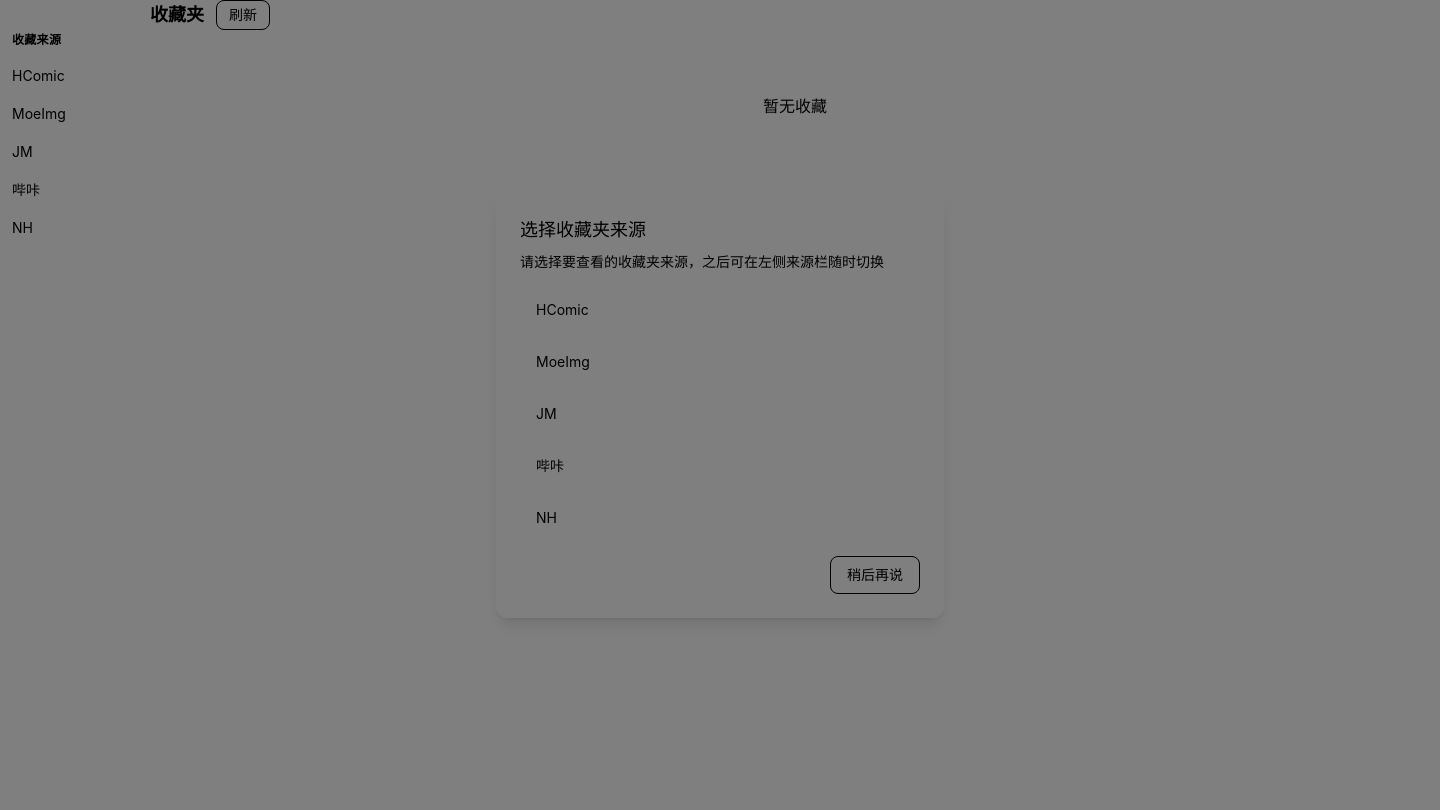
it: FavouritesPage 来源选择器三态分支 › ② 未设默认 + 本会话首次：弹出选择器 › 跳过选择器（稍后再说）后显示空状态与重开按钮，并标记已弹
Expected: the heading "选择收藏夹来源" is shown, left=520, top=219, right=646, bottom=240
Click the button "稍后再说" at [875, 575], box left=830, top=556, right=920, bottom=594
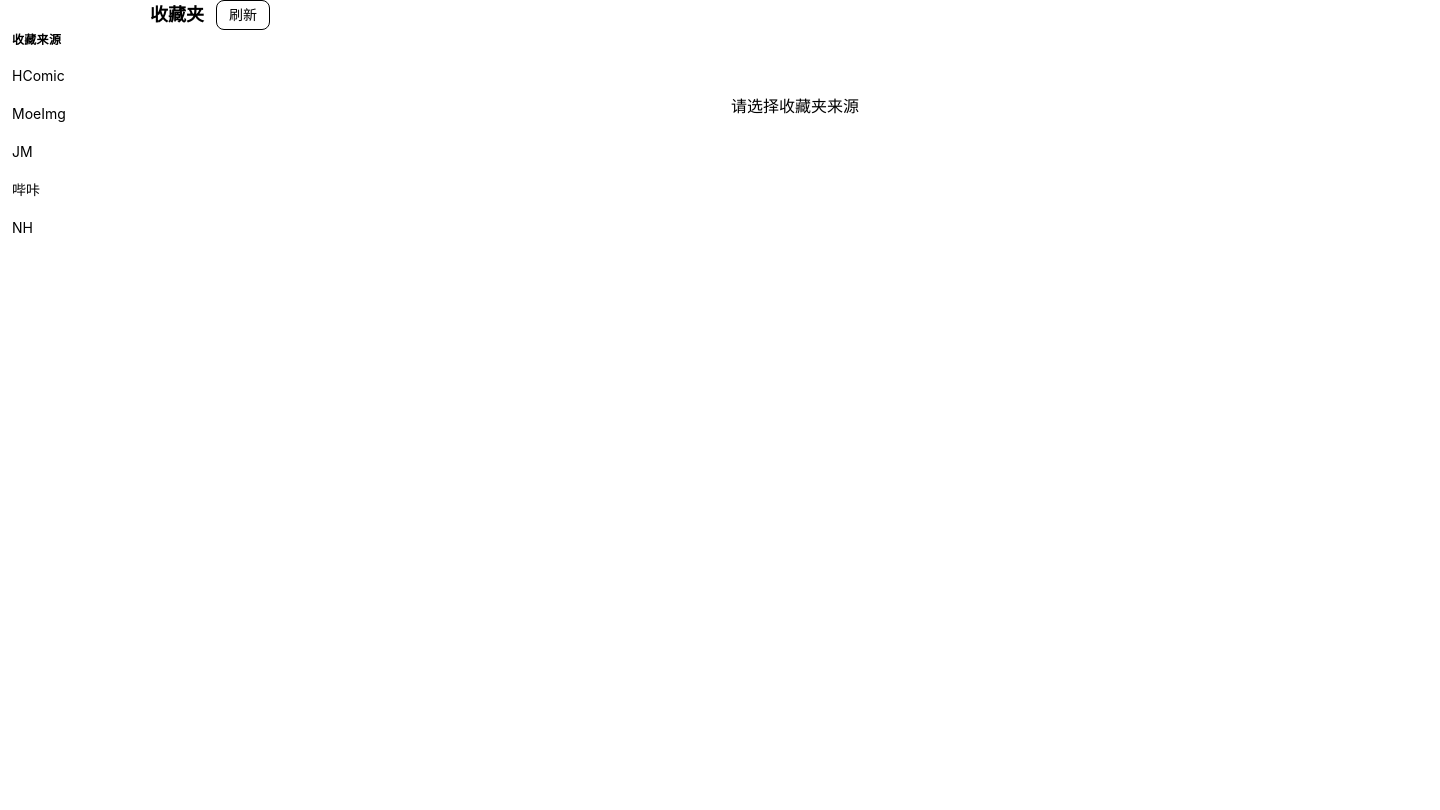
Expected: the text "请选择收藏夹来源" is shown, left=731, top=96, right=859, bottom=116
